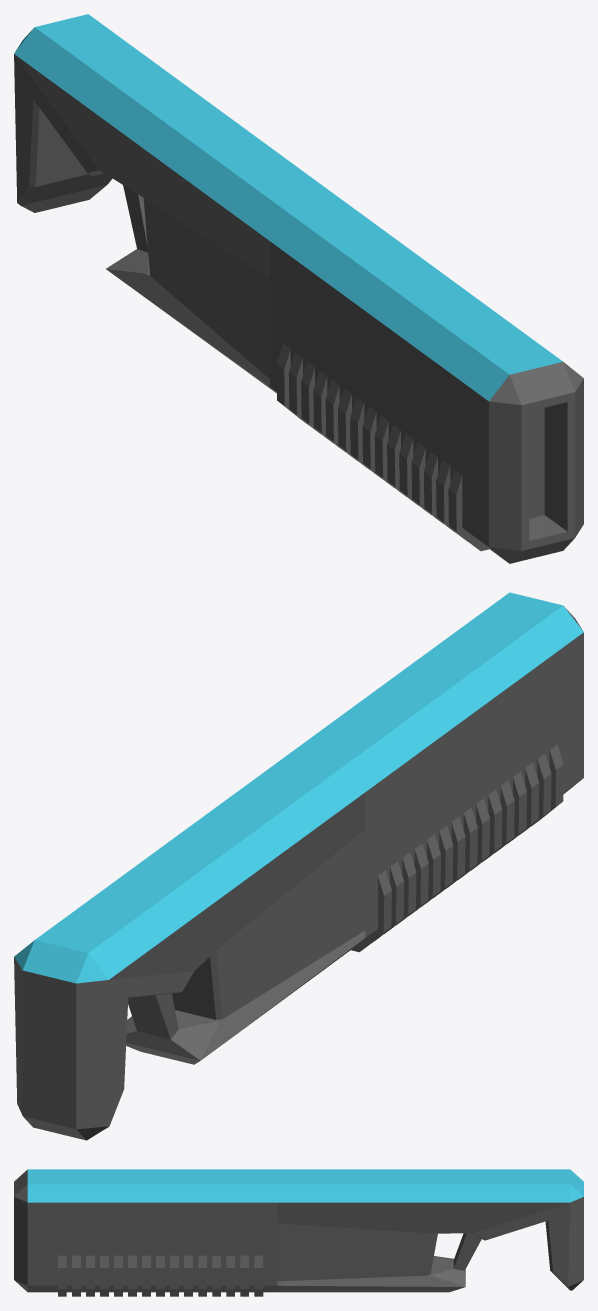
The model's file is Player_rifle.glb.
3 views of the same model, one above another, from view 1: azimuth 30°, elevation 25°; view 2: azimuth 150°, elevation 25°; view 3: azimuth 270°, elevation 25° (orthographic). The views are drawn at different scales.
Visible parts, largest first — view 1: Cube; view 2: Cube; view 3: Cube.
Part boxes in pixels (x1,y1,x2,y2): Cube: (14,14,583,563); Cube: (14,592,583,1140); Cube: (14,1169,583,1296).
Bounding box in the file's own units: 0.1808 × 0.3136 × 1.45.
